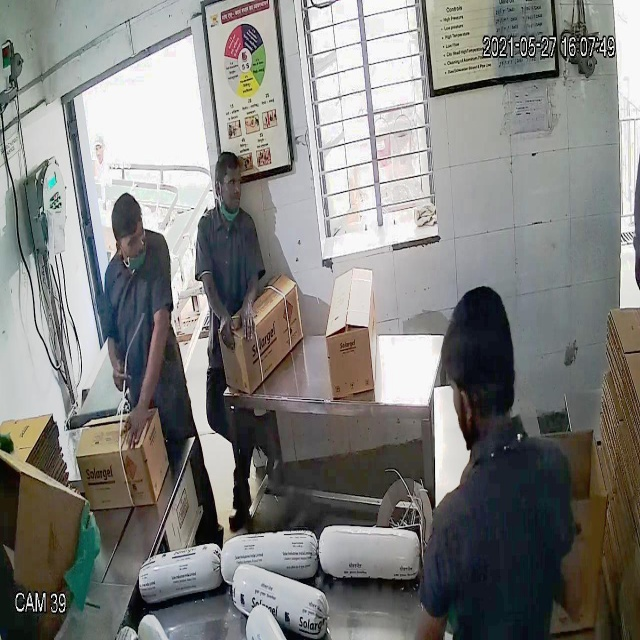Sin_gafas: (111, 224, 152, 257)
